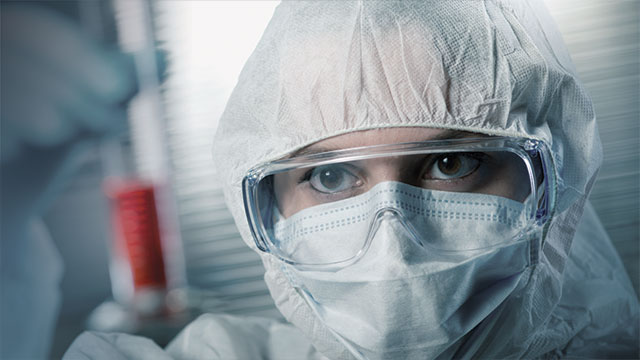Coverall: (156, 1, 639, 358)
Goggles: (239, 136, 561, 269)
with_mask: (265, 182, 529, 357)
